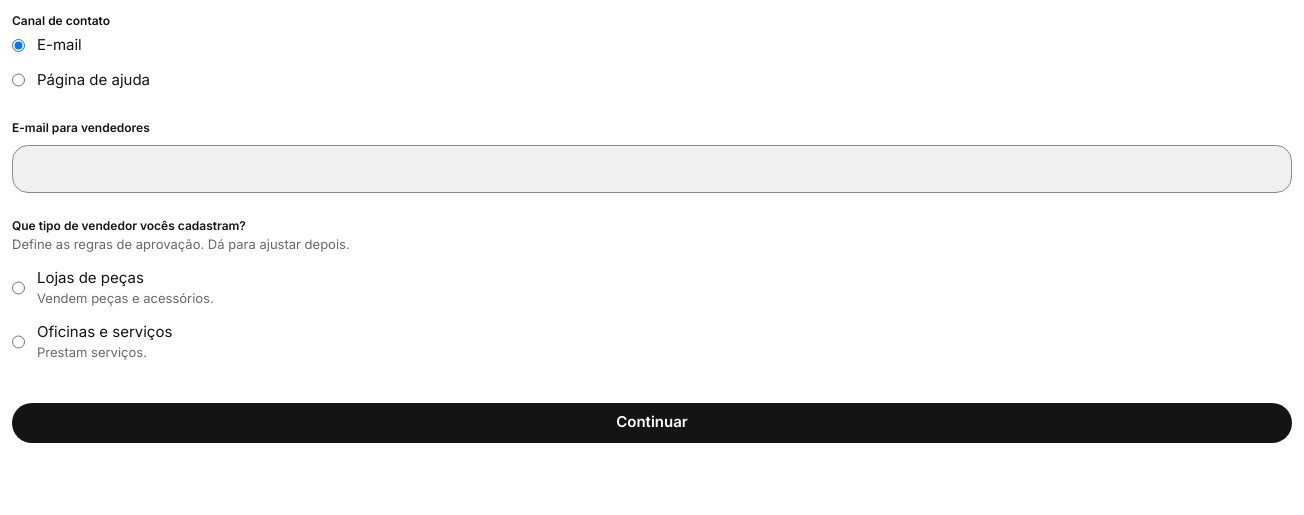
Test: OnboardingForm (S4, AC 4) › invalid e-mail and no category: onb.error.*, focus on the first
Type "x" into the field labelled "E-mail para vendedores" at (652, 169), box [12,145,1292,193]
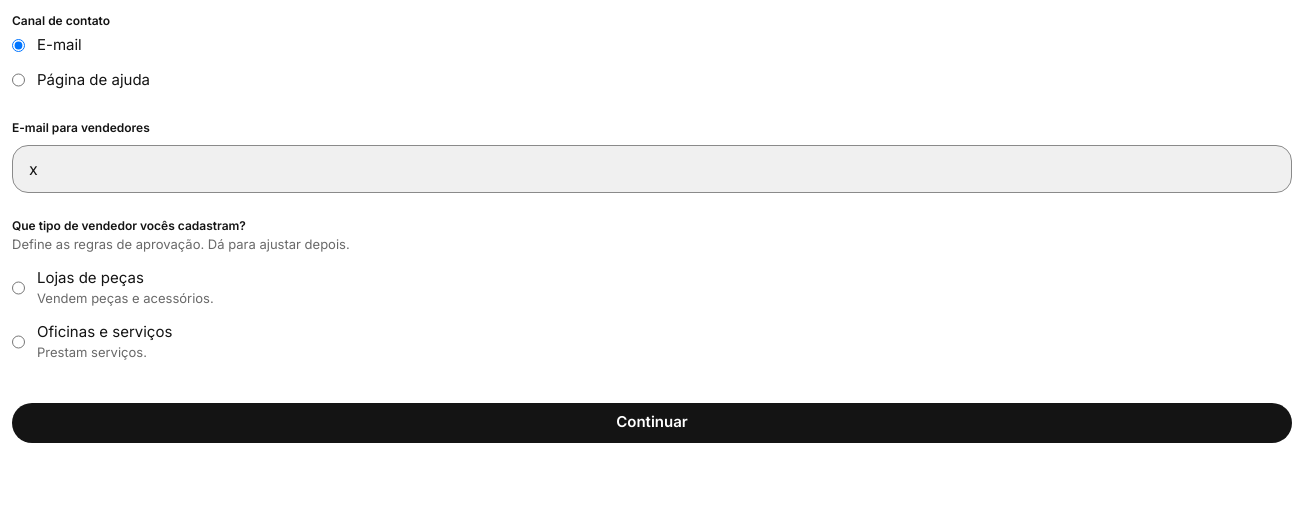
Click the button "Continuar" at (652, 422), box [12,402,1292,442]
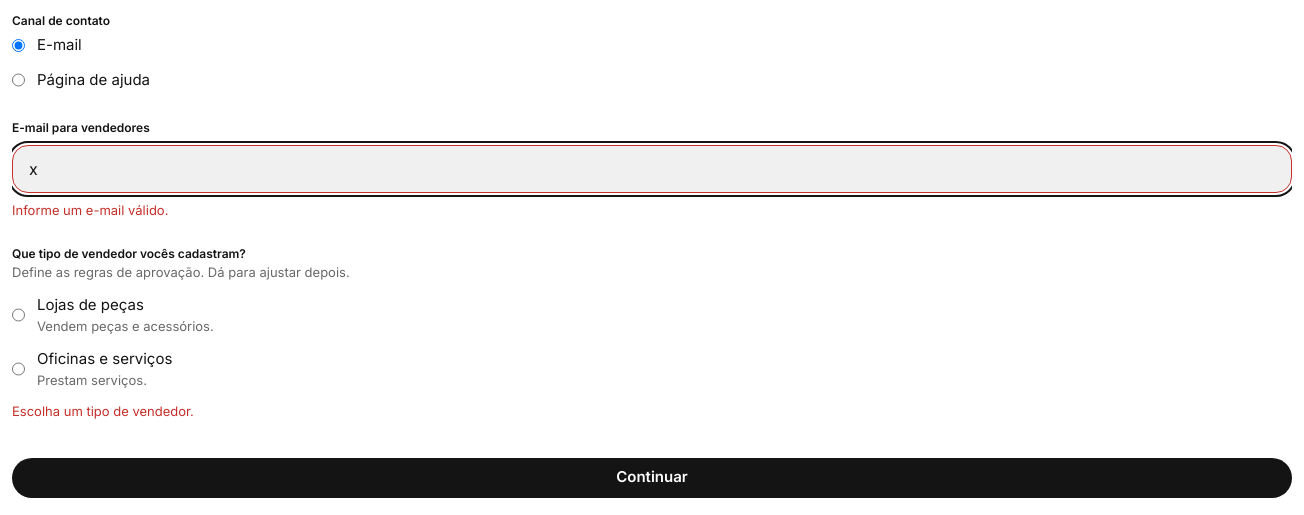
Now the text "Escolha um tipo de vendedor." is shown, box [12,403,194,419]
